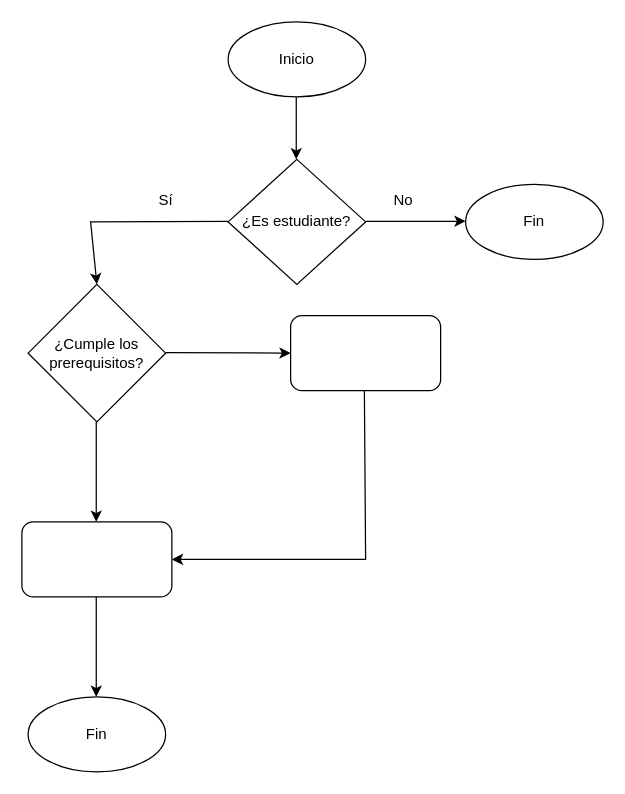
The diagram is 625 pixels wide and 794 high, and some of its shapes have lost their labels. Each missing label, with the centre of its shape:
Hacer actividad: the point at 96,559
Regresar a la/las actividades anteriores: the point at 365,352
